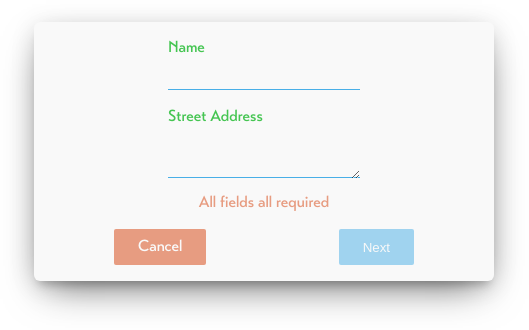
Test: Registration Form › Should remove warning and allow to click next when all data in place
Expected: the text "All fields all required" is shown, [199, 193, 329, 213]
Expected: the button "Next" is disabled, [339, 229, 414, 265]
In the field named "name": [264, 74] box [168, 58, 360, 91], type "Batman"
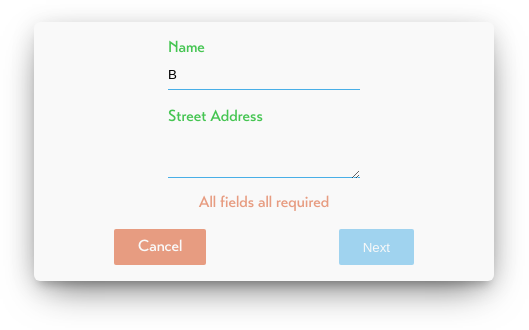
In the text box named "address": [264, 153] box [168, 127, 360, 179], type "First Gotham St. -80"
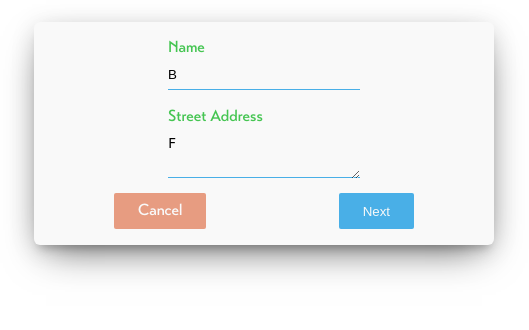
Result: the text "All fields all required" is gone
Result: the button "Next" is enabled at [339, 193, 414, 229]
